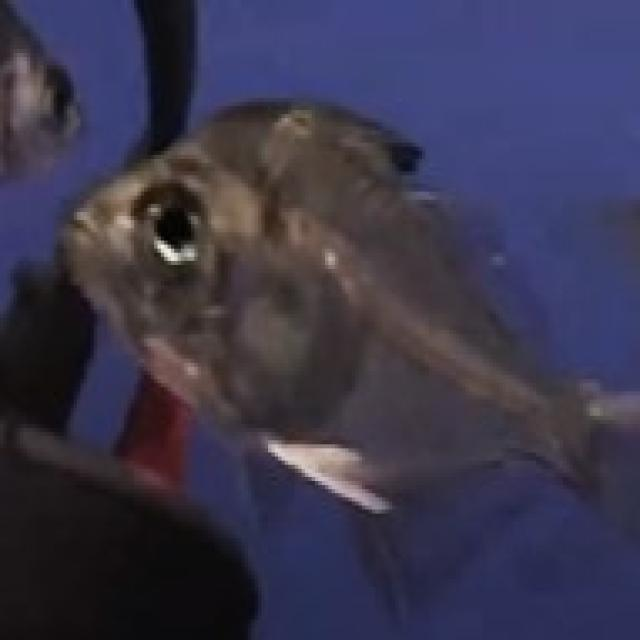Glass-Perchlet: (64, 63, 640, 616)
